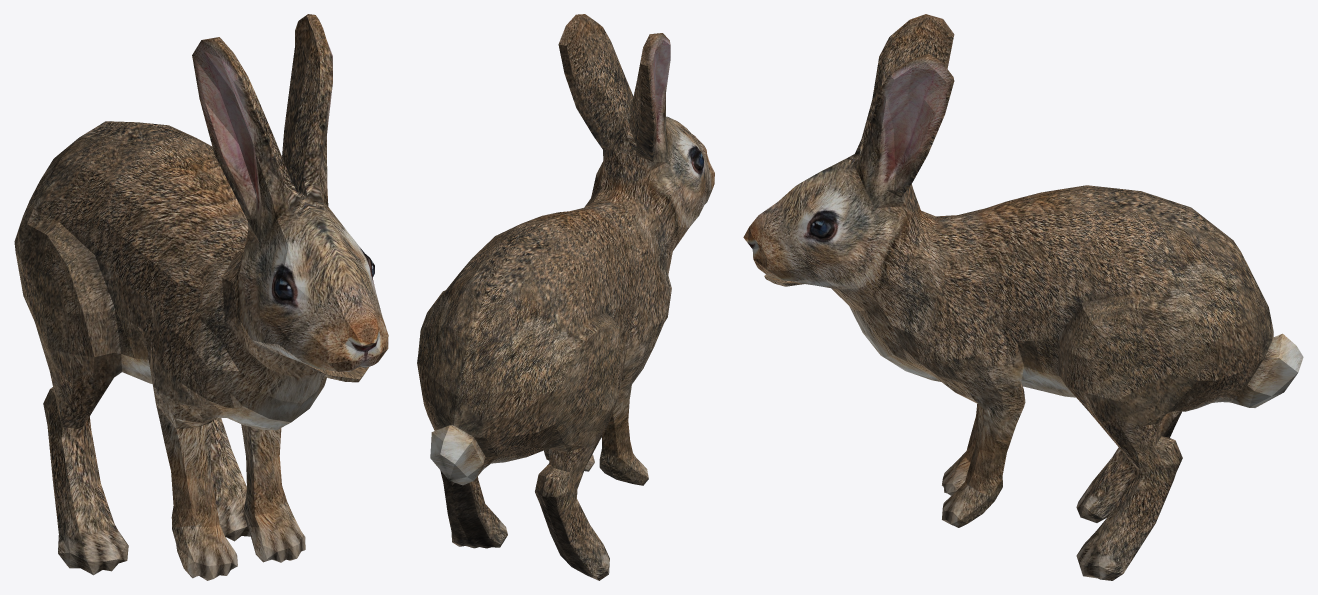
The model's file is rabbit.glb.
3 renders of one model, left to right at view 1: azimuth 30°, elevation 25°; view 2: azimuth 150°, elevation 25°; view 3: azimuth 270°, elevation 25°, orthographic. The views are drawn at different scales.
Bounding box in the file's own units: 0.9181 × 2.5 × 2.48.
Materials: 1 (1 with a texture image).
